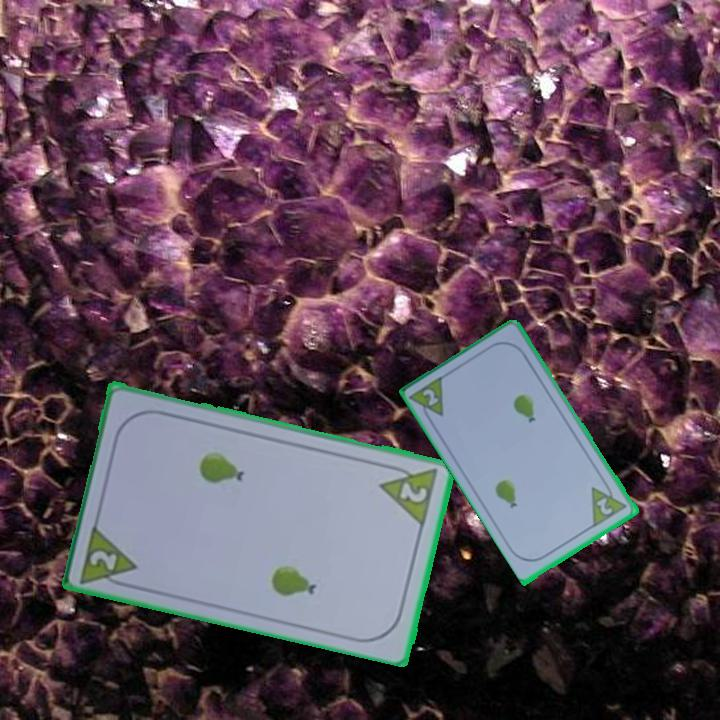2p: (77, 519, 141, 592), (376, 459, 441, 527), (588, 477, 631, 529), (419, 385, 442, 409)
